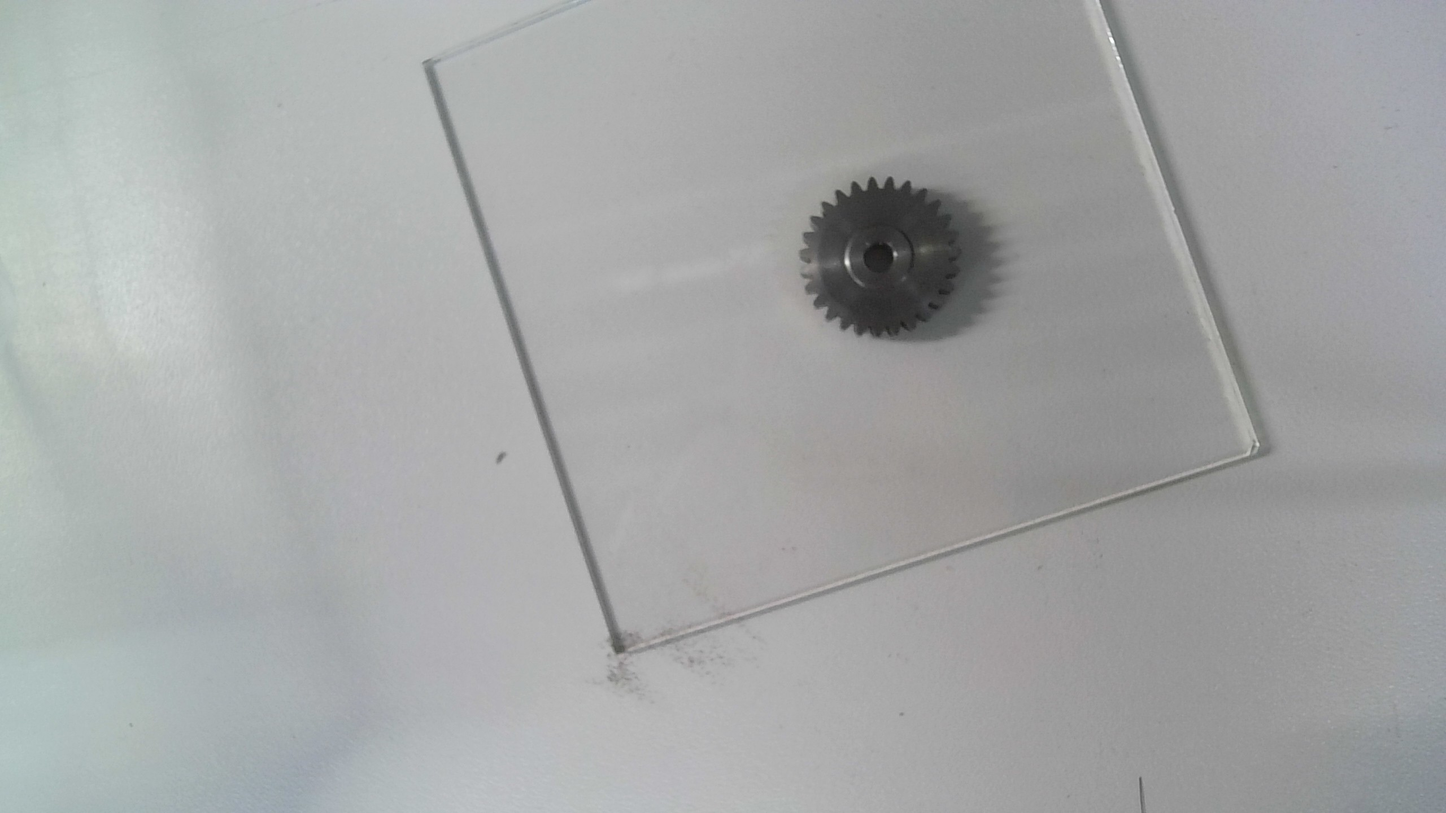gear: (798, 174, 965, 344)
